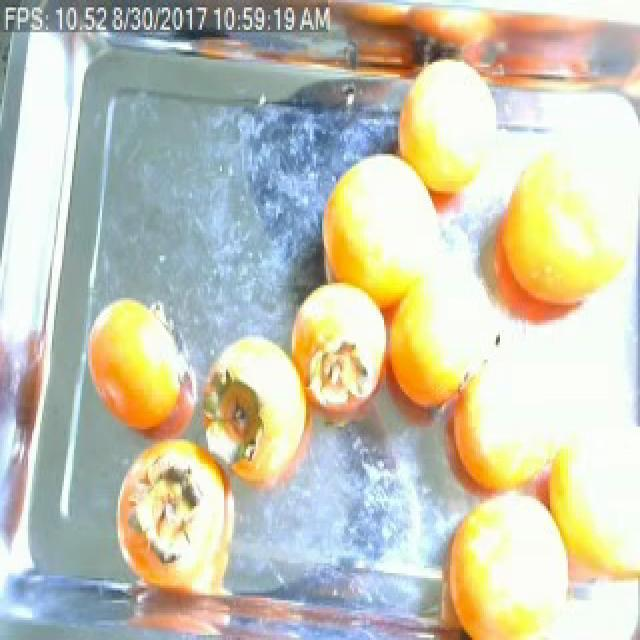Fruit: (74, 280, 208, 462), (104, 434, 242, 605)
